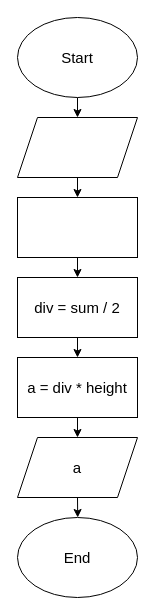
Image size: 155x615. Some labels were removed from this diagram. The centre of each missing label's shape, as x and y in pixels:
"base1, base2, height" belongs at pixel 77 147.
"sum = base1 + base2" belongs at pixel 77 227.
